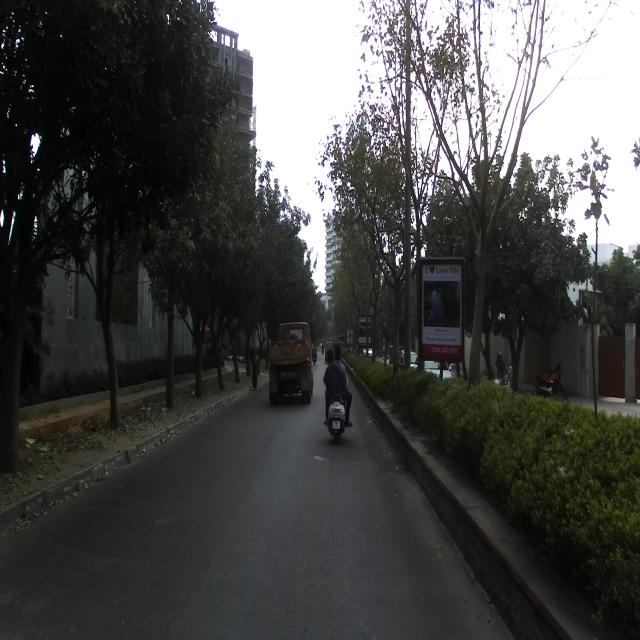motorcycle ahead at: (321, 390, 356, 448)
tree ahead at: (0, 222, 36, 469), (90, 253, 126, 430), (159, 285, 184, 414)
truck ahead at: (267, 316, 316, 408)
